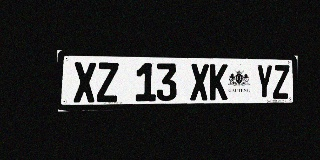1: (135, 63, 156, 101)
3: (157, 63, 176, 101)
K: (209, 64, 228, 100)
X: (73, 62, 96, 103), (190, 64, 209, 100)
Y: (256, 64, 273, 99)
Z: (97, 62, 118, 102), (273, 65, 289, 99)
